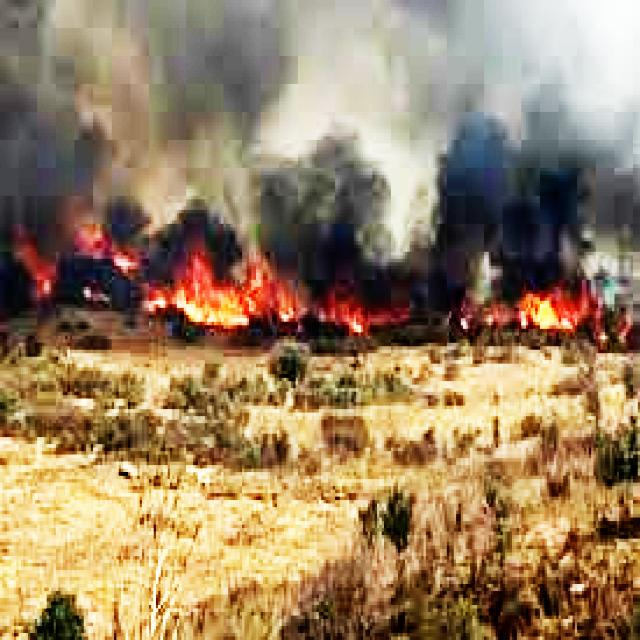api: (166, 268, 256, 339), (518, 289, 586, 344)
asap: (1, 1, 637, 278)
